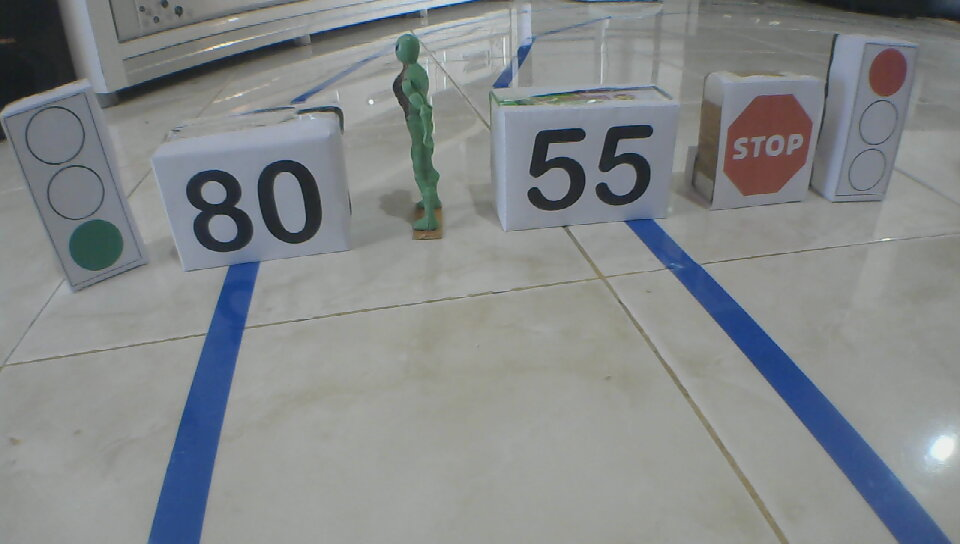Green Light: (24, 104, 126, 274)
Person: (391, 31, 451, 238)
Red Light: (846, 45, 908, 193)
Speed 55: (526, 122, 659, 213)
Speed 80: (183, 158, 324, 255)
Stop: (723, 94, 812, 199)
